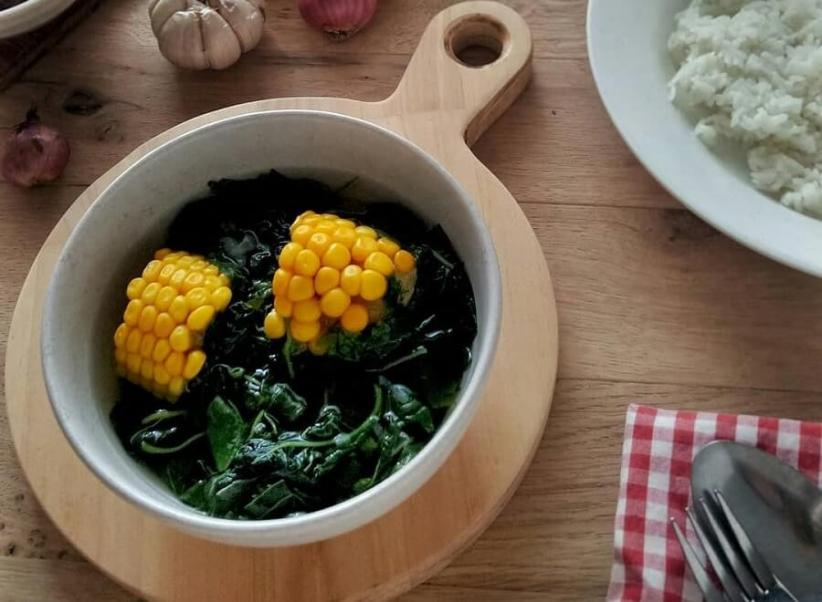Sayur Bayam: (1, 176, 512, 505)
